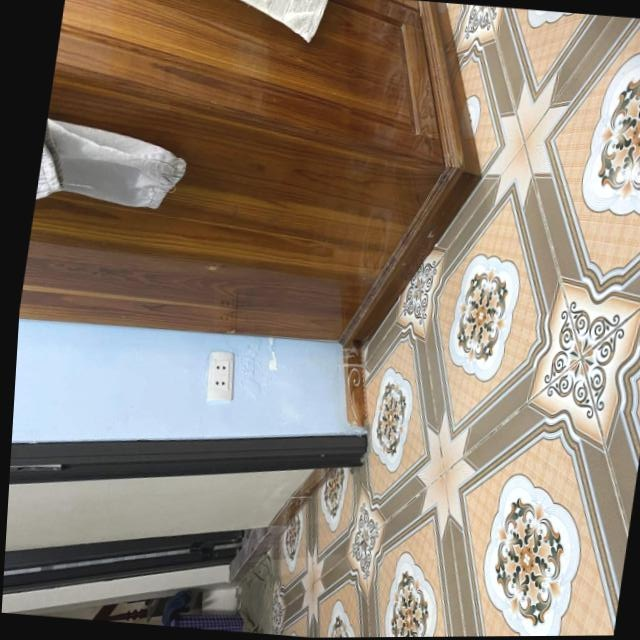outlet: (201, 351, 239, 404)
